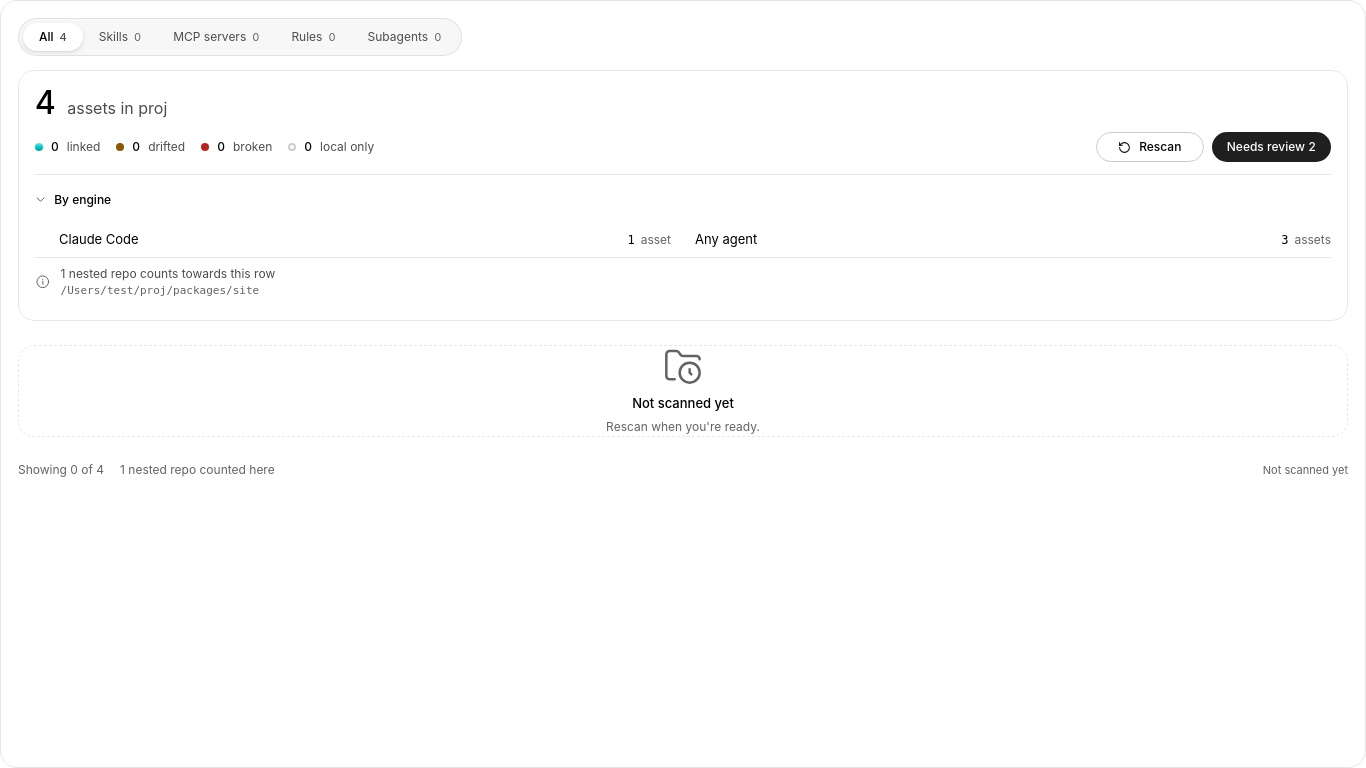
Test case: RepoPane hero band and pill › scan warnings and this repo's issues are the pill's lines; no scan-warning banner
Click the text "Needs review 2" at {"x": 1271, "y": 147}, box [1227,138,1316,156]
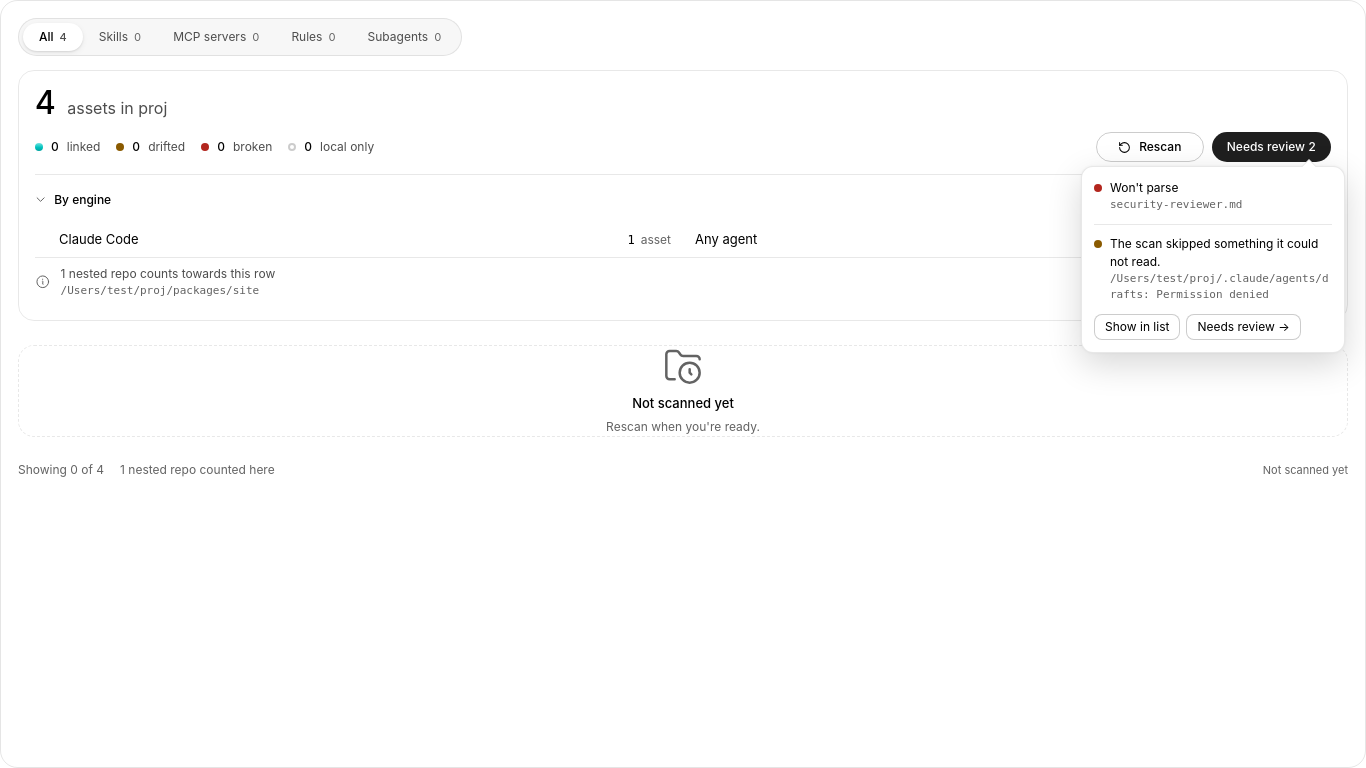
Now the list item with test id "finding-popover-line" shows "Won't parse", box [1110,180,1178,195]
Now the list item with test id "finding-popover-line" shows "security-reviewer.md", box [1110,198,1242,211]
Now the list item with test id "finding-popover-line" shows "The scan skipped something it could not read.", box [1110,236,1318,268]
